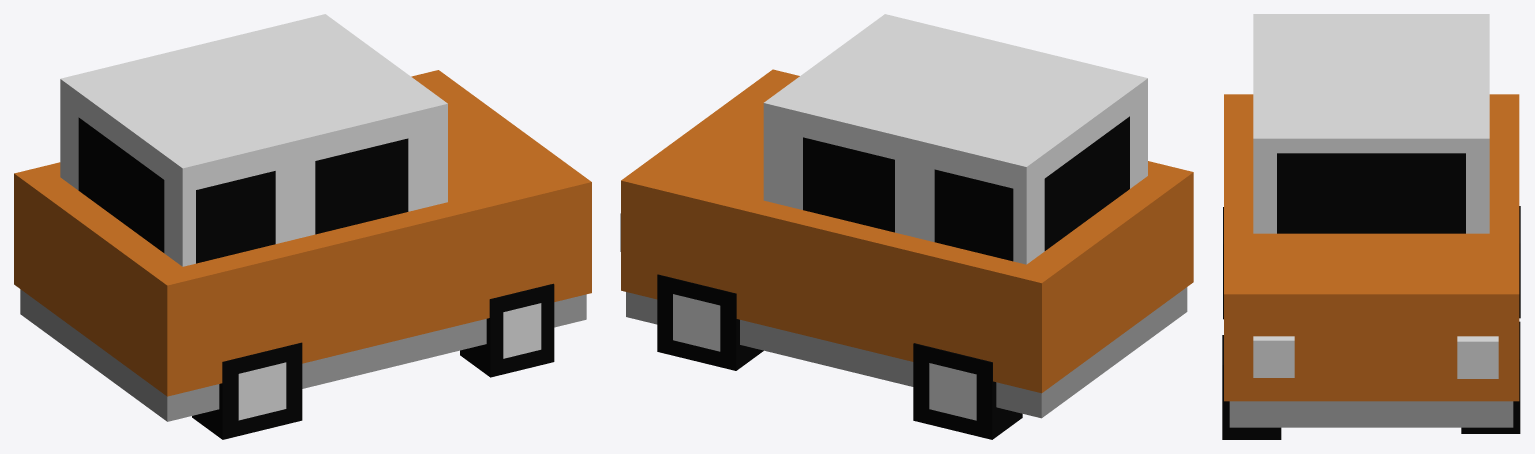
File: caroj.fbx
3 views of the same model, side by side, from view 1: azimuth 30°, elevation 25°; view 2: azimuth 150°, elevation 25°; view 3: azimuth 270°, elevation 25° (orthographic). The views are drawn at different scales.
Parts seen in each view (by area): view 1: pCube1, pasted__pCube1, pCube4, pasted__pCube2, pCube2; view 2: pCube1, pasted__pCube1, pCube4, pasted__pasted__pCube2, pasted__pCube2; view 3: pCube1, pasted__pCube1, pCube4, pasted__pCube3, pCube3, pCube2, pasted__pCube2.
Part boxes in pixels (x1,y1,x2,y2): pCube1: [14, 70, 591, 396]; pasted__pCube1: [60, 14, 447, 266]; pCube4: [20, 289, 586, 421]; pasted__pCube2: [192, 342, 302, 439]; pCube2: [460, 283, 554, 377]; pCube1: [621, 69, 1193, 393]; pasted__pCube1: [763, 14, 1147, 264]; pCube4: [626, 287, 1187, 418]; pasted__pasted__pCube2: [913, 343, 1022, 439]; pasted__pCube2: [657, 274, 763, 370]; pCube1: [1224, 94, 1519, 401]; pasted__pCube1: [1253, 14, 1489, 233]; pCube4: [1229, 401, 1513, 427]; pasted__pCube3: [1457, 336, 1498, 378]; pCube3: [1253, 336, 1294, 377]; pCube2: [1222, 335, 1281, 439]; pasted__pCube2: [1461, 321, 1520, 433].
Bounding box in the file's own units: 8.21 × 4.83 × 5.05.
